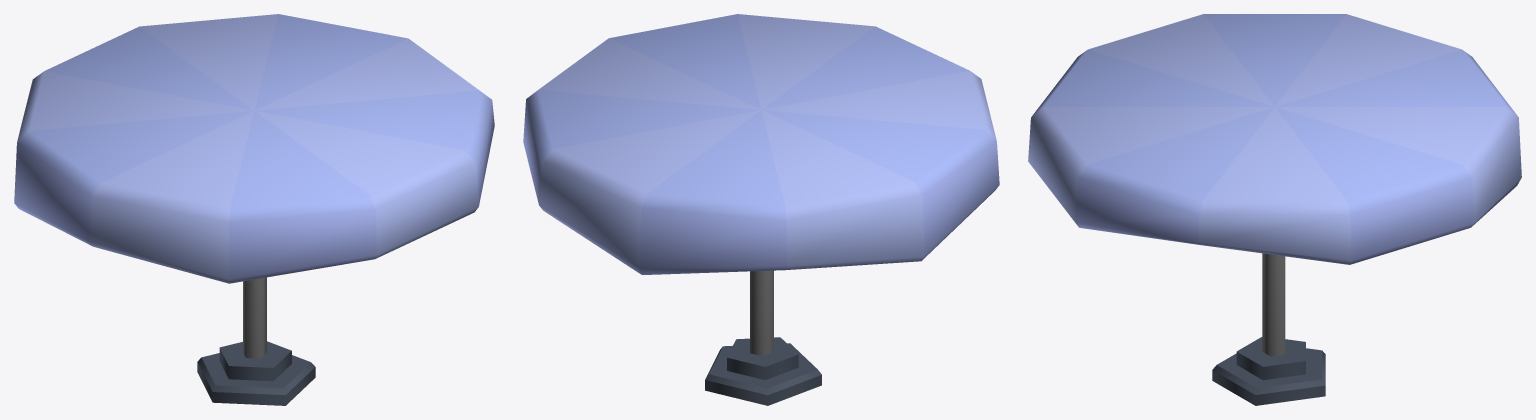
File: Table_1_E.fbx
The picture shows the model from 3 angles, left to right: view 1: azimuth 30°, elevation 25°; view 2: azimuth 150°, elevation 25°; view 3: azimuth 270°, elevation 25°; orthographic projection.
Visible parts, largest first — view 1: Table_1_E; view 2: Table_1_E; view 3: Table_1_E.
Part boxes in pixels (<box>): Table_1_E: <box>14,14,494,405</box>; Table_1_E: <box>523,14,999,405</box>; Table_1_E: <box>1028,14,1521,405</box>.
Size of the model in its own units: 134 by 86.3 by 141.
